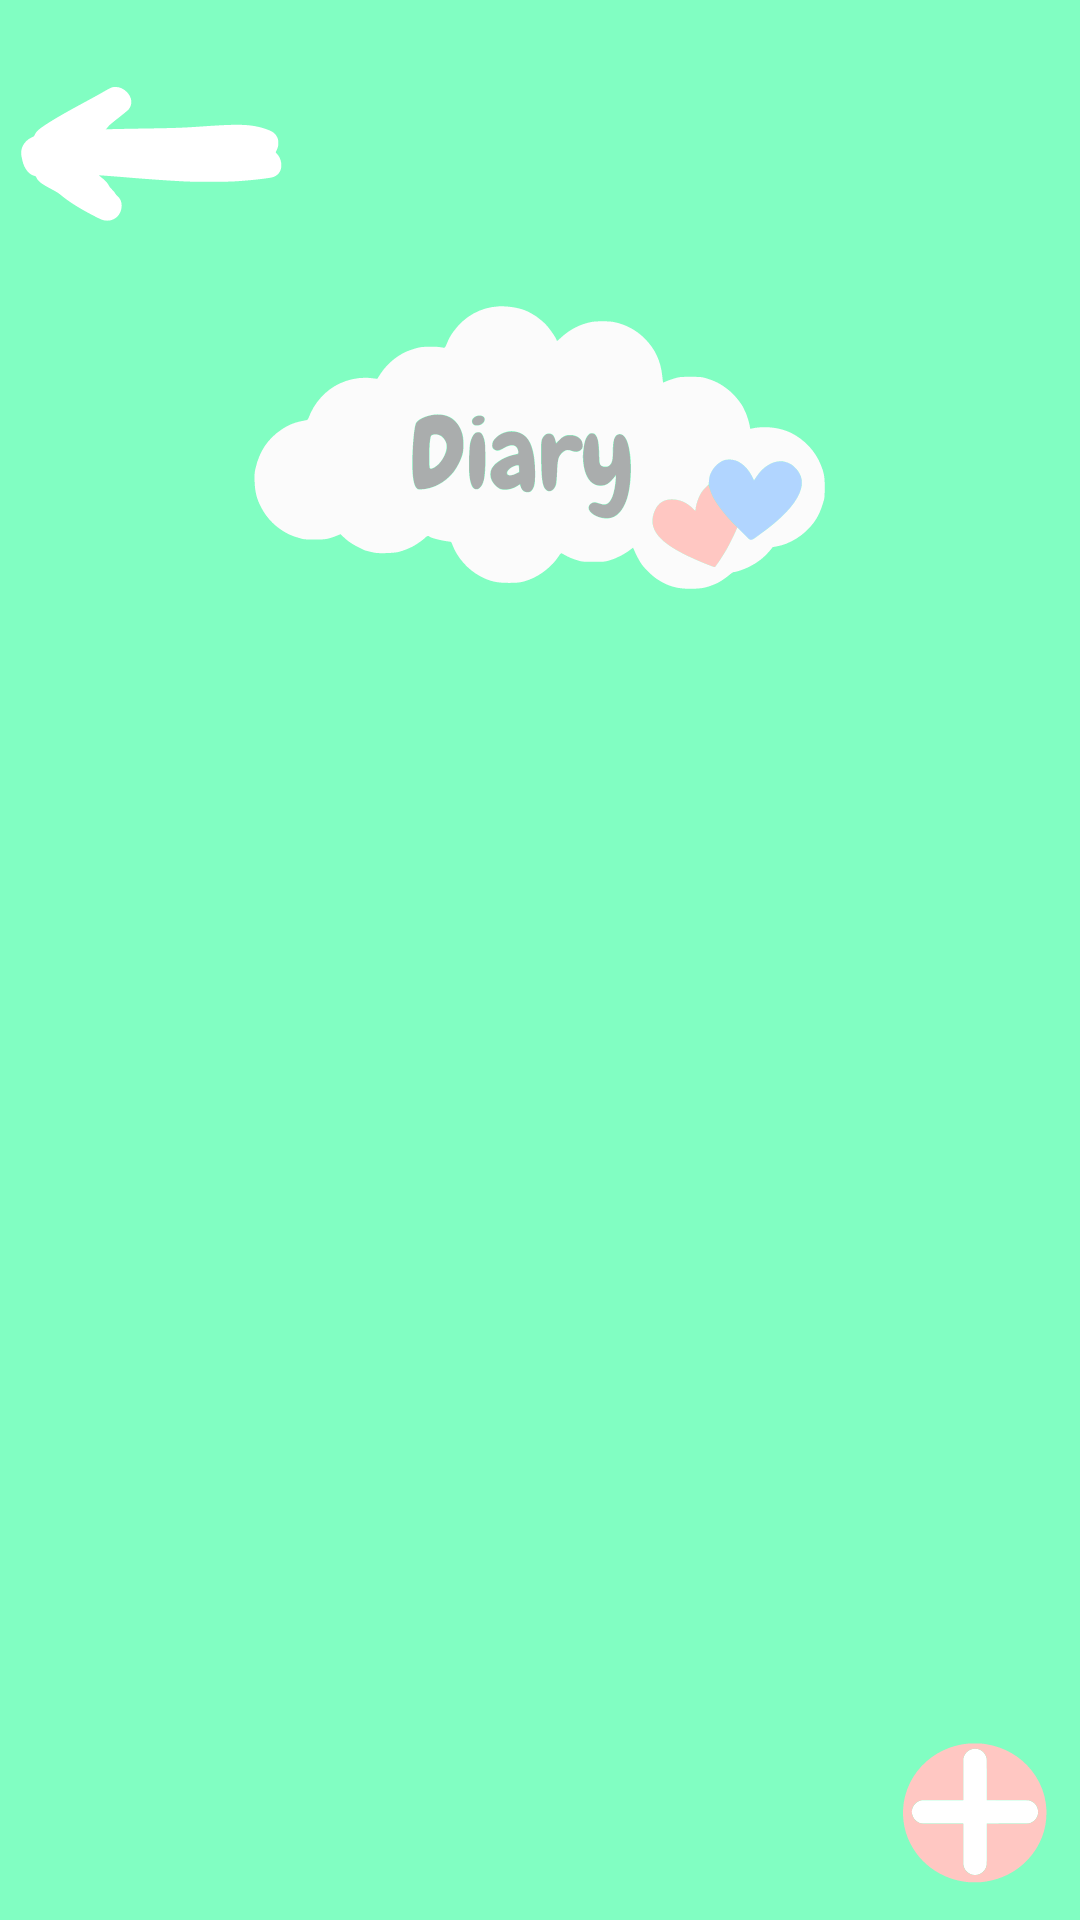

Screen size 1080×1920. Icon name, then its center in pixels as (x=x, y=y):
adddiarybutton: (x=975, y=1813)
backarrow: (x=151, y=154)
